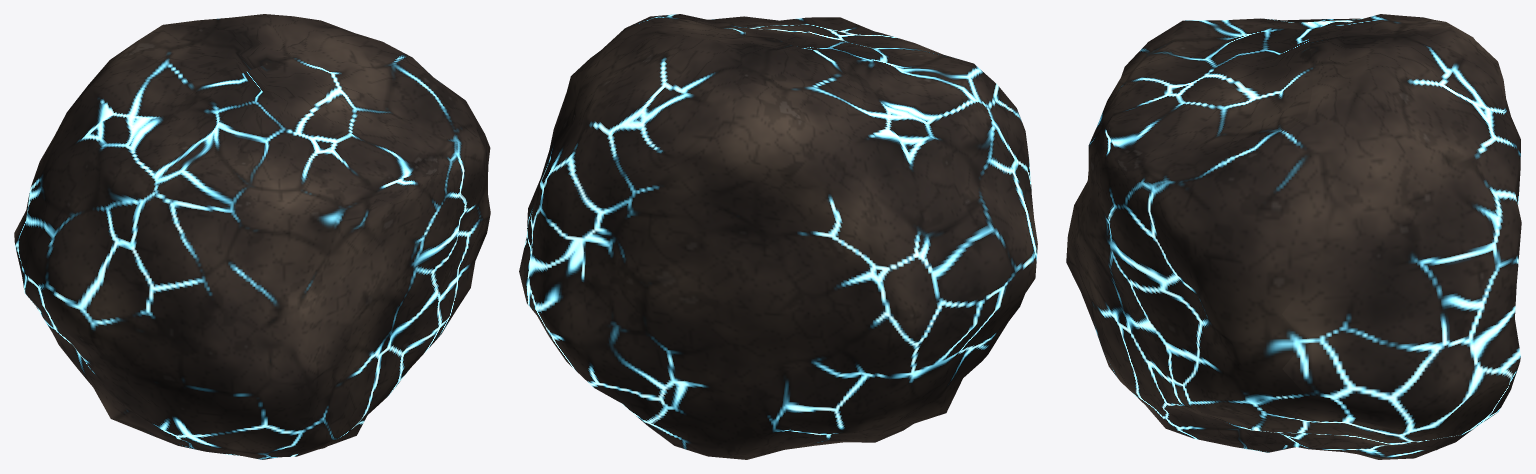
File: rock_warm_frost.glb
3 renders of one model, left to right at view 1: azimuth 30°, elevation 25°; view 2: azimuth 150°, elevation 25°; view 3: azimuth 270°, elevation 25°, orthographic. The views are drawn at different scales.
Parts seen in each view (by area): view 1: rock; view 2: rock; view 3: rock.
Part boxes in pixels (x1,y1,x2,y2): rock: [14, 14, 490, 459]; rock: [519, 14, 1037, 459]; rock: [1066, 14, 1521, 459].
Bounding box in the file's own units: 2.04 × 1.74 × 1.71.
1 material, 1 textured.
